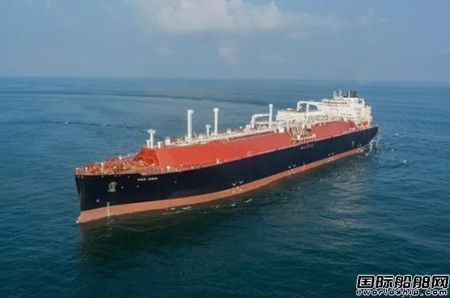Cargoship: (66, 84, 380, 229)
